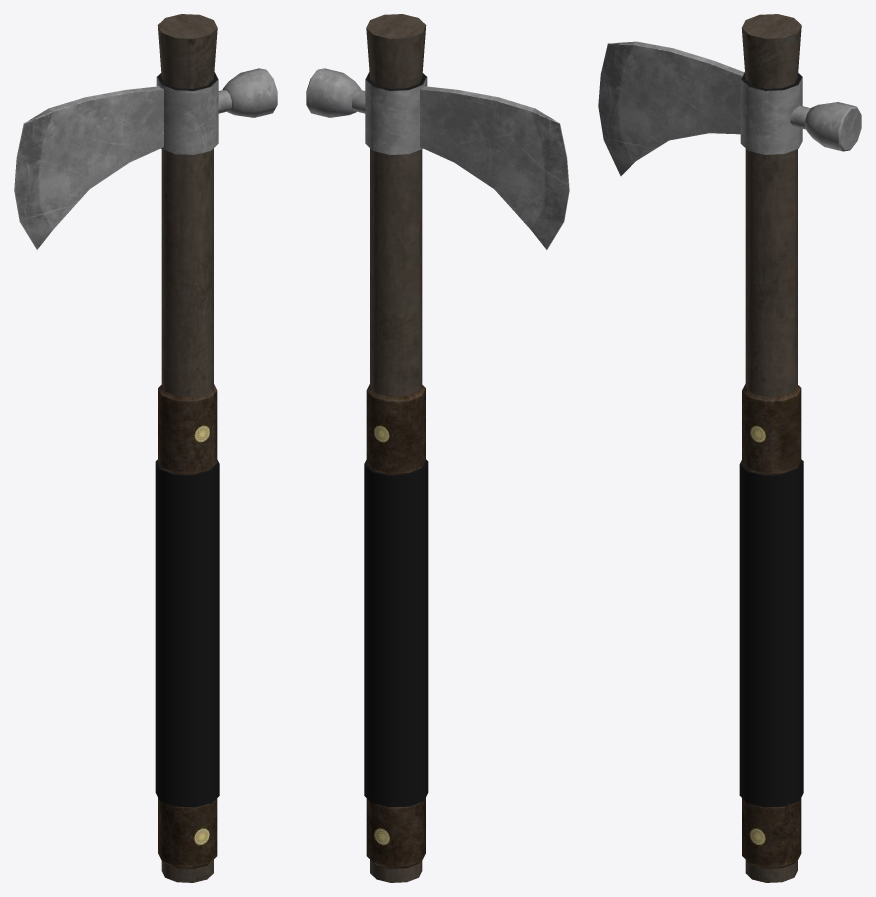
The model's file is mp_tomahawk.glb.
3 renders of one model, left to right at view 1: azimuth 30°, elevation 25°; view 2: azimuth 150°, elevation 25°; view 3: azimuth 330°, elevation 25°, orthographic.
Parts seen in each view (by area): view 1: Tomahawk; view 2: Tomahawk; view 3: Tomahawk.
Part boxes in pixels (left/top/right/bottom): Tomahawk: left=14, top=14, right=277, bottom=882; Tomahawk: left=306, top=14, right=569, bottom=882; Tomahawk: left=598, top=14, right=861, bottom=882.
Size of the model in its own units: 0.1564 by 0.5 by 0.0329.
1 material, 1 textured.
